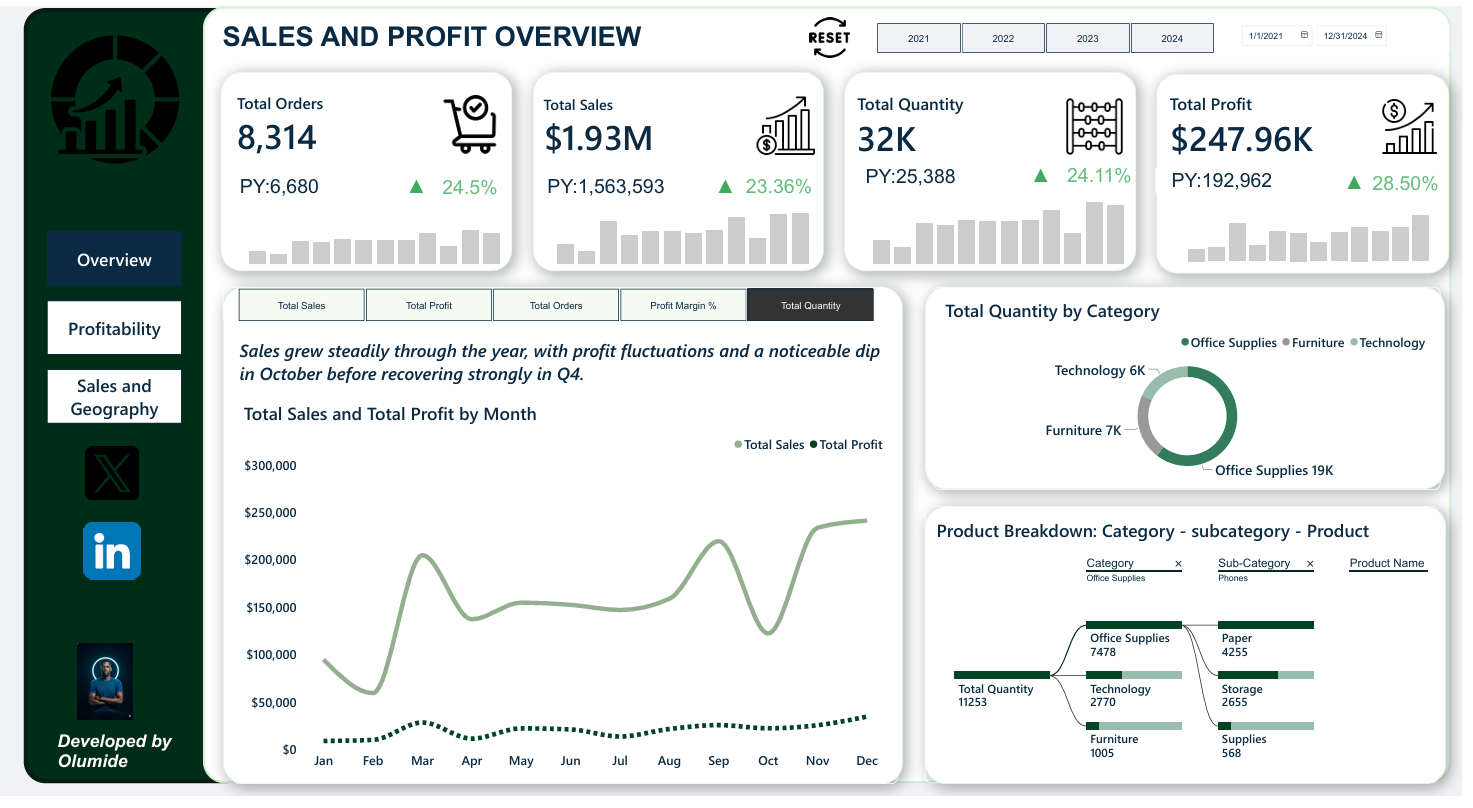

What the dashboard file says about the page in this screenshot:
{"tool":"powerbi","page":{"name":"Overview","canvas":[2000,1080],"ordinal":0},"visuals":[{"type":"image","box":[54.9,876.9,180.2,113.3],"z":0},{"type":"shape","box":[32.6,1.7,305.4,1060.5],"z":1000},{"type":"shape","box":[278,0,1707.4,1062.2],"z":2000},{"type":"shape","box":[302,89.2,398.5,273.3],"z":2000,"group":"g1"},{"type":"group","id":"g1","title":"Group 1","box":[302,89.2,1680,276.3],"z":3000},{"type":"shape","box":[728.6,89.2,398.5,273.3],"z":3000,"group":"g1"},{"type":"group","id":"g2","title":"Group 2","box":[305.4,382.7,1673.1,679.5],"z":4000},{"type":"shape","box":[305.4,382.7,930.3,679.5],"z":4000,"group":"g2"},{"type":"shape","box":[1155.2,89.2,398.5,273.3],"z":5000,"group":"g1"},{"type":"cardVisual","fields":{"Data":["Data.4_Total Orders"]},"box":[317.5,94.4,372.4,133.8],"z":5000},{"type":"card","fields":{"Values":["Data.4_PY Total Orders Display"]},"box":[306,224,151.7,41.7],"z":6000},{"type":"shape","box":[1265.3,382.7,710.7,277.3],"z":6000,"group":"g2"},{"type":"shape","box":[1581,91.9,401,273.6],"z":7000,"group":"g1"},{"type":"card","fields":{"Values":["Data.4_YoY Total Orders icon"]},"box":[521,224,96.7,41.7],"z":7000},{"type":"card","fields":{"Values":["Data.4_YoY Total Orders"]},"box":[594.4,225.6,96.7,41.7],"z":8000},{"type":"shape","box":[1265.3,682.5,713.2,379.7],"z":8000,"group":"g2"},{"type":"columnChart","fields":{"Category":["Calendar_Table.Month Name"],"Y":["Data.1_Total Sales"]},"box":[748.3,241.7,373.3,126.7],"z":9000},{"type":"cardVisual","fields":{"Data":["Data.1_Total Sales"]},"box":[736.2,96.1,386.1,133.8],"z":10000},{"type":"card","fields":{"Values":["Data.1_PY Sales Display"]},"box":[732.4,224.2,192.2,41.2],"z":11000},{"type":"card","fields":{"Values":["Data.1_YoY Sales icon"]},"box":[943.8,224.3,96.7,41.7],"z":12000},{"type":"card","fields":{"Values":["Data.1_YoY Sales"]},"box":[1017,223.9,96.1,41.2],"z":13000},{"type":"columnChart","fields":{"Y":["Data.4_Total Orders"],"Category":["Calendar_Table.Month Name"]},"box":[326.9,261.1,373.3,107.4],"z":14000},{"type":"cardVisual","fields":{"Data":["Data.2_Total Quantity"]},"box":[1165.2,97.8,379.2,132.1],"z":15000},{"type":"card","fields":{"Values":["Data.2_PY Quantity Display"]},"box":[1160.4,212.3,170,40],"z":16000},{"type":"card","fields":{"Values":["Data.2_YoY Quantity icon"]},"box":[1374.5,209.8,96.7,41.7],"z":17000},{"type":"card","fields":{"Values":["Data.2_YoY Quantity"]},"box":[1454.5,209.8,96.7,41.7],"z":18000},{"type":"columnChart","fields":{"Category":["Calendar_Table.Month Name"],"Y":["Data.2_Total Quantity"]},"box":[1180,241.7,373.3,126.7],"z":19000},{"type":"cardVisual","fields":{"Data":["Data.3_Total Profit"]},"box":[1592.4,97.8,382.7,132.1],"z":20000},{"type":"card","fields":{"Values":["Data.3_PY Profit Display"]},"box":[1580.4,216.2,180.2,42.9],"z":21000},{"type":"card","fields":{"Values":["Data.3_YoY Profit icon"]},"box":[1802.8,218.3,96.7,41.7],"z":22000},{"type":"card","fields":{"Values":["Data.3_YoY Profit"]},"box":[1872.8,220,96.7,41.7],"z":23000},{"type":"columnChart","fields":{"Category":["Calendar_Table.Month Name"],"Y":["Data.3_Total Profit"]},"box":[1609.6,252.3,360.4,111.5],"z":24000},{"type":"slicer","fields":{"Values":["Calendar_Table.Date"]},"box":[1690,20,292.5,45],"z":25000},{"type":"slicer","fields":{"Values":["Calendar_Table.Year"]},"box":[1177.5,20,502.5,45],"z":26000},{"type":"lineChart","title":"Total Sales and Total Profit by Month","fields":{"Category":["Calendar_Table.Month Name"],"Y":["Data.1_Total Sales","Data.3_Total Profit"]},"box":[317.5,522.5,910,540],"z":27000},{"type":"slicer","fields":{"Values":["Dynamic Measure.Dynamic Measure"]},"box":[305.4,382.7,909.5,49.8],"z":28000},{"type":"donutChart","title":"Total Quantity by Category","fields":{"Y":["Data.2_Total Quantity"],"Category":["Data.Category"]},"box":[1276.7,382.7,693.3,278],"z":29000},{"type":"decompositionTreeVisual","title":"Product Breakdown: Category - subcategory - Product","fields":{"Analyze":["Data.2_Total Quantity"],"ExplainBy":["Data.Category","Data.Sub-Category","Data.Product Name"]},"box":[1264.7,683,701.8,379.2],"z":30000},{"type":"textbox","box":[305,20,662.5,45],"z":31000},{"type":"textbox","box":[78.9,990.1,171.6,60.1],"z":32000},{"type":"image","box":[1077.5,0,115,85],"z":33000},{"type":"image","box":[77.2,586.9,154.4,103],"z":34000},{"type":"textbox","box":[327.8,453,899.2,68.6],"z":35000},{"type":"pageNavigator","box":[49.8,293.4,214.5,293.4],"z":36000},{"type":"image","box":[49.8,12,216.2,229.9],"z":37000},{"type":"image","box":[78.9,689.8,149.3,108.1],"z":38000},{"type":"image","box":[77.2,856.3,135.6,133.8],"z":39000}]}

Visuals, with their boxes in screenshot pixels (x1, y1, x2, y2), scaled from the page's 2000x1080 canvas onto the 1473x808 screenshot:
image: left=40, top=656, right=173, bottom=741
shape: left=24, top=1, right=249, bottom=795
shape: left=205, top=0, right=1462, bottom=795
shape: left=222, top=67, right=516, bottom=271
"Group 1" group: left=222, top=67, right=1460, bottom=273
shape: left=537, top=67, right=830, bottom=271
"Group 2" group: left=225, top=286, right=1457, bottom=795
shape: left=225, top=286, right=910, bottom=795
shape: left=851, top=67, right=1144, bottom=271
cardVisual - Data.4_Total Orders: left=234, top=71, right=508, bottom=171
card - Data.4_PY Total Orders Display: left=225, top=168, right=337, bottom=199
shape: left=932, top=286, right=1455, bottom=494
shape: left=1164, top=69, right=1460, bottom=273
card - Data.4_YoY Total Orders icon: left=384, top=168, right=455, bottom=199
card - Data.4_YoY Total Orders: left=438, top=169, right=509, bottom=200
shape: left=932, top=511, right=1457, bottom=795
columnChart - Calendar_Table.Month Name x Data.1_Total Sales: left=551, top=181, right=826, bottom=276
cardVisual - Data.1_Total Sales: left=542, top=72, right=827, bottom=172
card - Data.1_PY Sales Display: left=539, top=168, right=681, bottom=199
card - Data.1_YoY Sales icon: left=695, top=168, right=766, bottom=199
card - Data.1_YoY Sales: left=749, top=168, right=820, bottom=198
columnChart - Data.4_Total Orders x Calendar_Table.Month Name: left=241, top=195, right=516, bottom=276
cardVisual - Data.2_Total Quantity: left=858, top=73, right=1137, bottom=172
card - Data.2_PY Quantity Display: left=855, top=159, right=980, bottom=189
card - Data.2_YoY Quantity icon: left=1012, top=157, right=1084, bottom=188
card - Data.2_YoY Quantity: left=1071, top=157, right=1142, bottom=188
columnChart - Calendar_Table.Month Name x Data.2_Total Quantity: left=869, top=181, right=1144, bottom=276
cardVisual - Data.3_Total Profit: left=1173, top=73, right=1455, bottom=172
card - Data.3_PY Profit Display: left=1164, top=162, right=1297, bottom=194
card - Data.3_YoY Profit icon: left=1328, top=163, right=1399, bottom=195
card - Data.3_YoY Profit: left=1379, top=165, right=1451, bottom=196
columnChart - Calendar_Table.Month Name x Data.3_Total Profit: left=1185, top=189, right=1451, bottom=272
slicer - Calendar_Table.Date: left=1245, top=15, right=1460, bottom=49
slicer - Calendar_Table.Year: left=867, top=15, right=1237, bottom=49
"Total Sales and Total Profit by Month" lineChart: left=234, top=391, right=904, bottom=795
slicer - Dynamic Measure.Dynamic Measure: left=225, top=286, right=895, bottom=324
"Total Quantity by Category" donutChart: left=940, top=286, right=1451, bottom=494
"Product Breakdown: Category - subcategory - Product" decompositionTreeVisual: left=931, top=511, right=1448, bottom=795
textbox: left=225, top=15, right=713, bottom=49
textbox: left=58, top=741, right=184, bottom=786
image: left=794, top=0, right=878, bottom=64
image: left=57, top=439, right=171, bottom=516
textbox: left=241, top=339, right=904, bottom=390
pageNavigator: left=37, top=220, right=195, bottom=439
image: left=37, top=9, right=196, bottom=181
image: left=58, top=516, right=168, bottom=597
image: left=57, top=641, right=157, bottom=741
